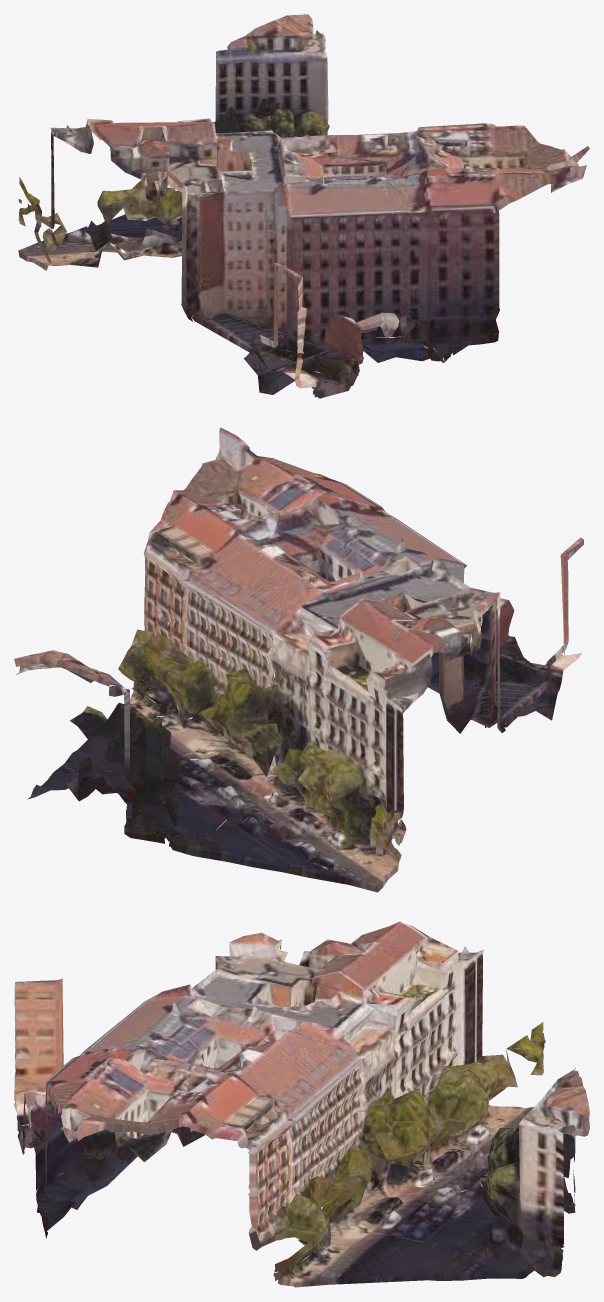
3 views of the same model, one above another, from view 1: azimuth 30°, elevation 25°; view 2: azimuth 150°, elevation 25°; view 3: azimuth 270°, elevation 25° (orthographic). The views are drawn at different scales.
Visible parts, largest first — view 1: Mesh_0; view 2: Mesh_0; view 3: Mesh_0.
Part boxes in pixels (left/top/right/bottom): Mesh_0: left=18, top=14, right=589, bottom=398; Mesh_0: left=14, top=427, right=583, bottom=892; Mesh_0: left=14, top=921, right=589, bottom=1287.
Size of the model in its own units: 67.78 by 32.2 by 82.65.
1 material, 1 textured.
